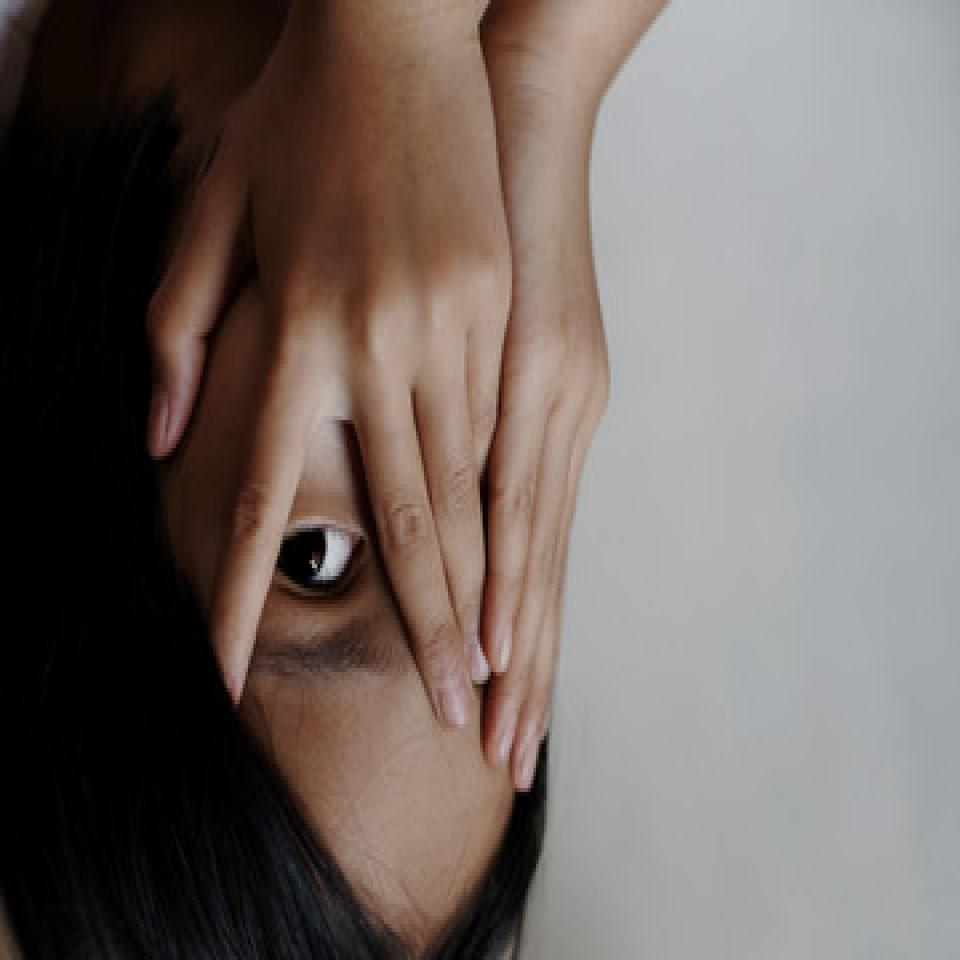Scared: (144, 38, 610, 918)
